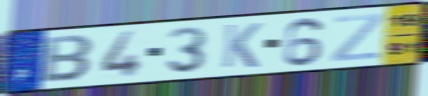3: (165, 26, 209, 74)
4: (98, 29, 144, 79)
6: (282, 15, 326, 68)
B: (40, 34, 97, 84)
K: (219, 21, 264, 70)
Z: (329, 12, 387, 64)
